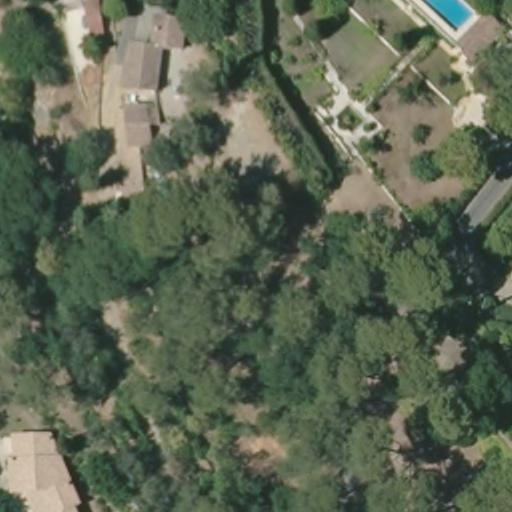pool: (398, 0, 477, 40)
